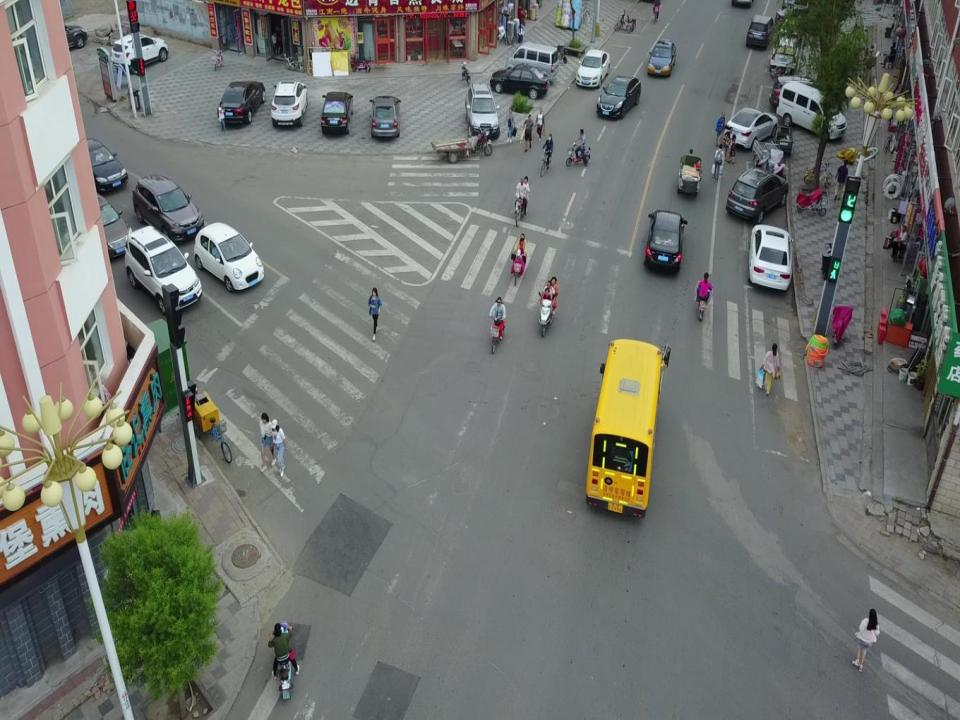car: (124, 225, 202, 315), (132, 173, 205, 245), (193, 222, 264, 293), (73, 193, 133, 260), (725, 166, 788, 225), (748, 224, 794, 293), (74, 138, 129, 193), (644, 209, 688, 273), (723, 106, 778, 152), (111, 32, 169, 74), (490, 63, 550, 100), (464, 80, 500, 139), (768, 74, 826, 109), (596, 75, 641, 120), (219, 81, 265, 124), (270, 80, 308, 127), (34, 24, 88, 55), (321, 91, 354, 135), (575, 49, 610, 88), (770, 26, 801, 70), (369, 96, 401, 137), (774, 7, 826, 30), (746, 13, 776, 50), (782, 0, 832, 22), (648, 38, 676, 77)
van: (586, 338, 670, 518), (776, 81, 847, 142), (505, 41, 559, 85)
